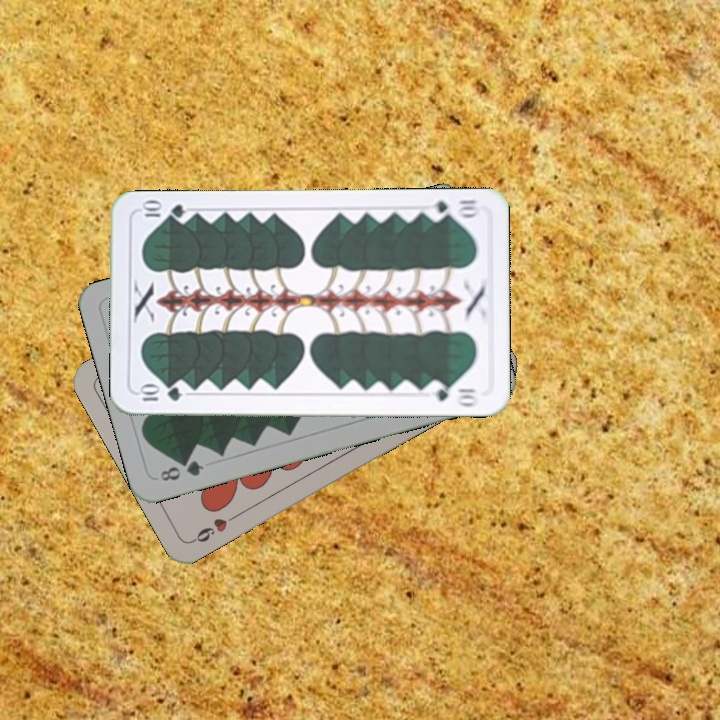G10: (423, 195, 482, 223), (135, 383, 184, 404)
G8: (156, 456, 207, 484)
H9: (188, 509, 242, 546)
